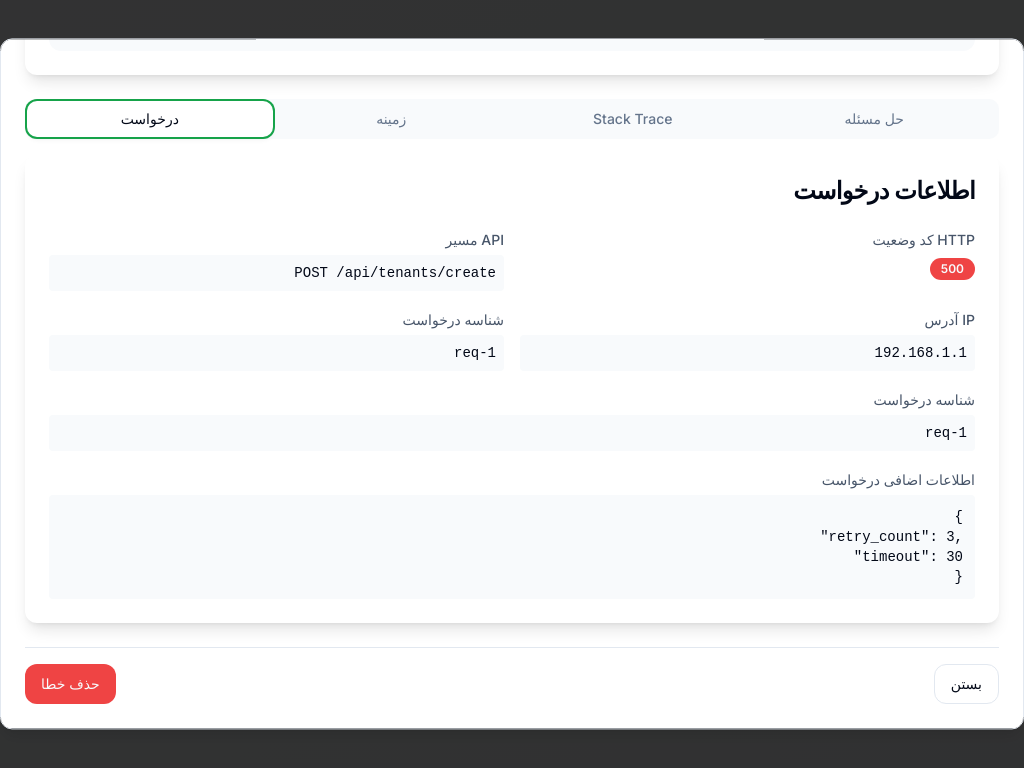
Test case: ErrorDetailModal › shows delete confirmation dialog
The image size is (1024, 768).
(page scrolled)
// Click delete button
Click the button "حذف خطا" at (70, 684), box 25,664 -> 116,704
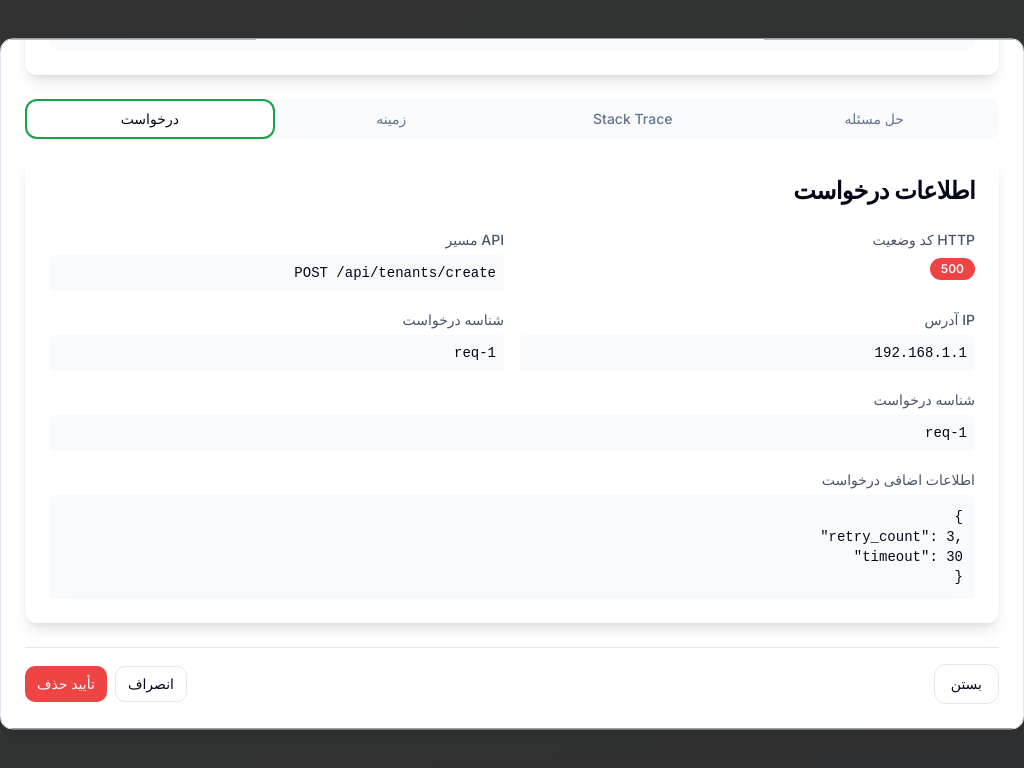
Expected: the button "تأیید حذف" is shown, 25,666 -> 107,702
Expected: the button "انصراف" is shown
// Cancel deletion
Click the button "انصراف" at (151, 684), box 115,666 -> 187,702
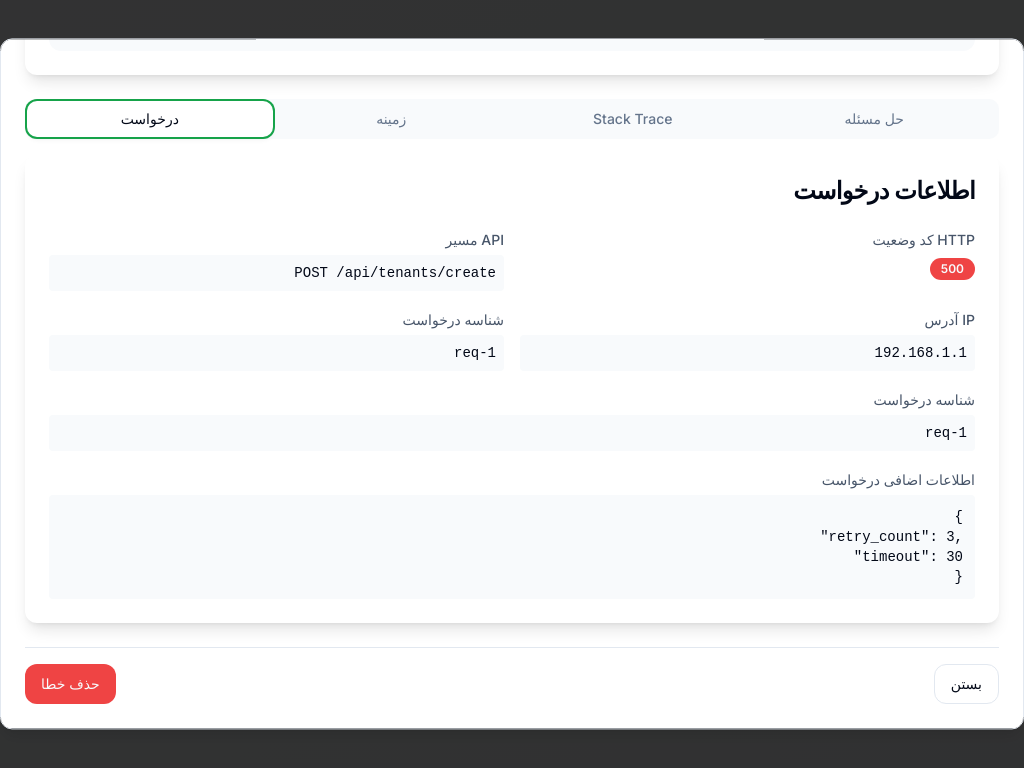
Expected: the button "تأیید حذف" is gone
